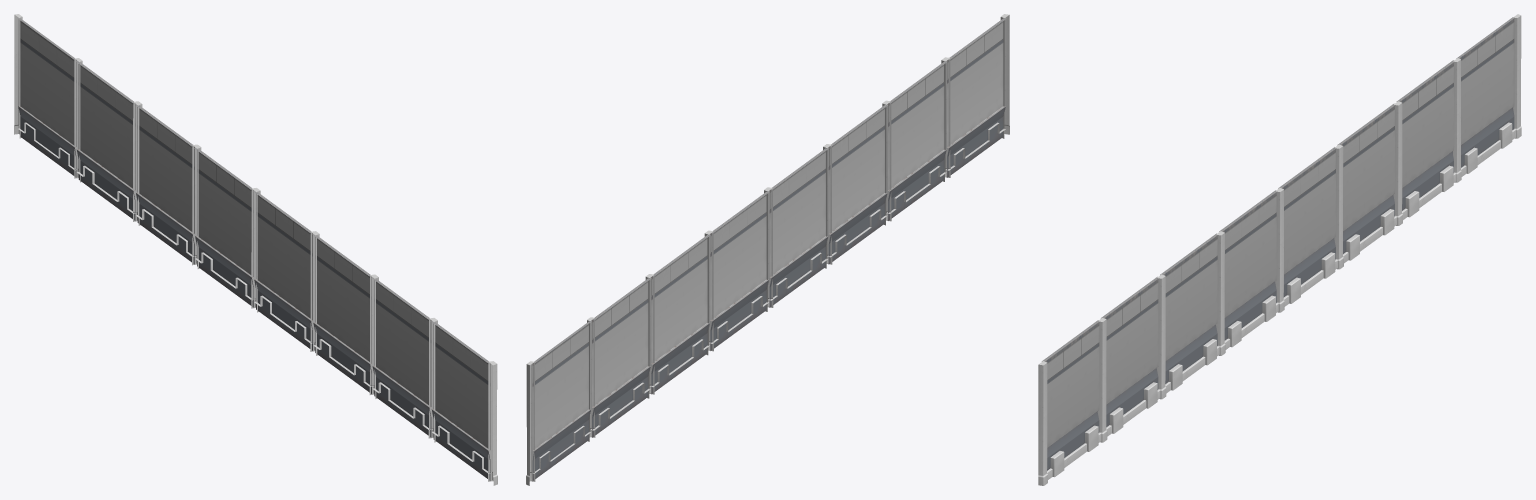
The model's file is Pfb_JALB_WallPart2_Line__12.fbx.
3 renders of one model, left to right at view 1: azimuth 30°, elevation 25°; view 2: azimuth 150°, elevation 25°; view 3: azimuth 330°, elevation 25°, orthographic.
Visible parts, largest first — view 1: MAT_JLABWall; view 2: MAT_JLABWall; view 3: MAT_JLABWall.
Boxes of the visible parts, x1,y1,x2,y2 form: MAT_JLABWall: (14, 14, 497, 485); MAT_JLABWall: (526, 14, 1009, 485); MAT_JLABWall: (1038, 14, 1521, 485).
Bounding box in the file's own units: 0.2509 × 4.04 × 29.2.
Materials: 1 (1 with a texture image).
